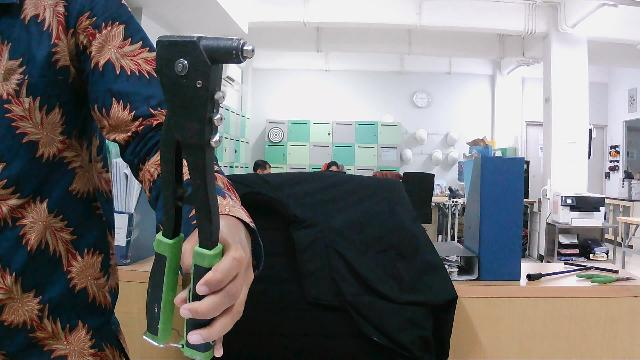tang_rivet: (117, 26, 269, 360)
